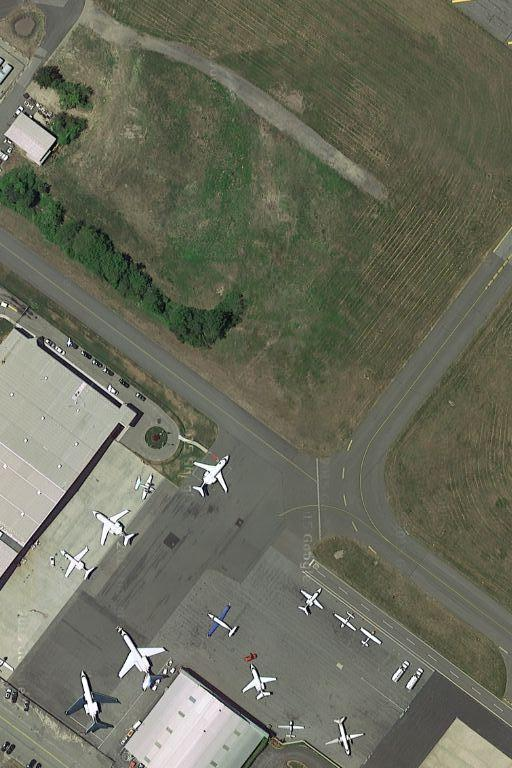A-10: (295, 581, 327, 618)
plane: (109, 631, 177, 694), (66, 666, 123, 737), (186, 451, 236, 502), (92, 504, 141, 552), (321, 710, 366, 760), (57, 543, 100, 583), (239, 664, 281, 704)
